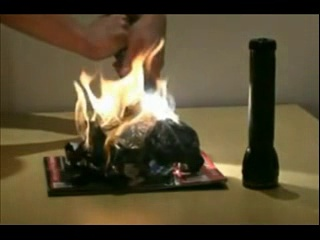fire: (99, 39, 164, 145), (72, 68, 117, 175)
smoke: (148, 87, 174, 123)
